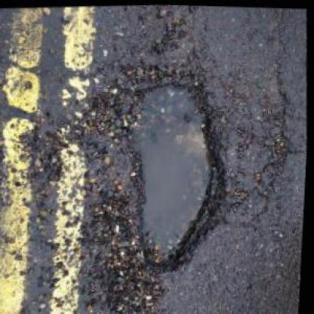Hueco: (110, 62, 240, 277)
